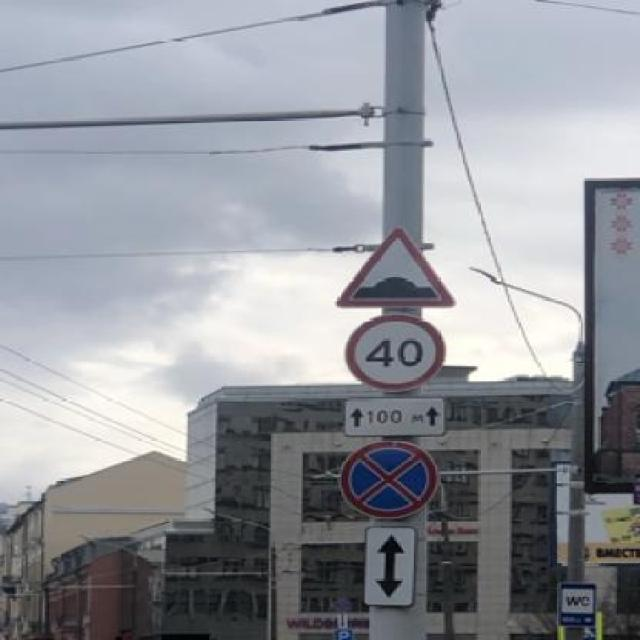forb_speed_over_40: (349, 313, 446, 390)
